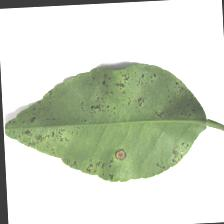canker: (90, 76, 152, 114)
